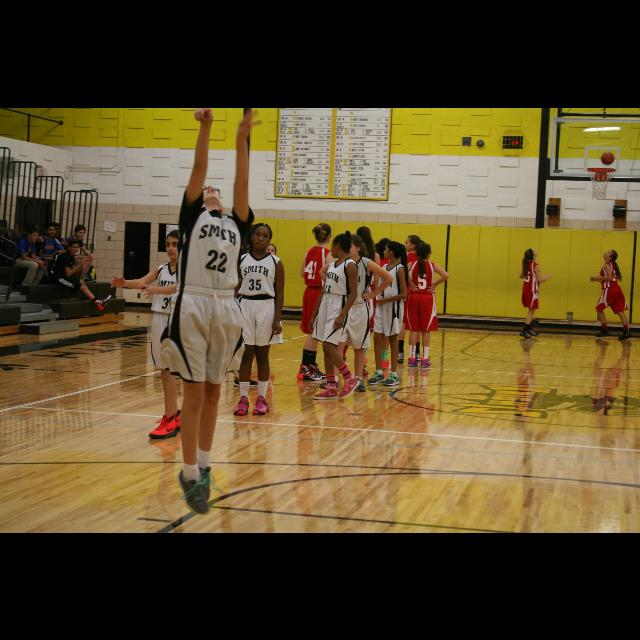head: (194, 182, 224, 210), (166, 229, 186, 259), (331, 233, 352, 259), (252, 223, 272, 249), (314, 222, 334, 244), (345, 233, 363, 257), (383, 240, 402, 258), (402, 233, 422, 250), (418, 242, 432, 260), (357, 226, 371, 242), (378, 238, 392, 254), (602, 248, 618, 260), (74, 223, 86, 239), (266, 244, 278, 258), (525, 248, 539, 260), (67, 240, 79, 254), (27, 229, 39, 243), (45, 224, 57, 236), (46, 224, 56, 236)
person: (158, 107, 266, 519), (109, 228, 201, 442), (318, 231, 394, 393), (228, 220, 288, 418), (310, 228, 362, 402), (394, 242, 452, 371), (364, 239, 410, 387), (295, 222, 337, 382), (358, 235, 398, 373), (40, 238, 114, 312), (348, 223, 382, 379), (392, 232, 430, 364), (588, 247, 636, 341), (518, 246, 554, 340), (257, 240, 285, 338), (9, 227, 49, 290), (61, 222, 98, 284), (34, 222, 68, 280), (38, 221, 66, 275)
